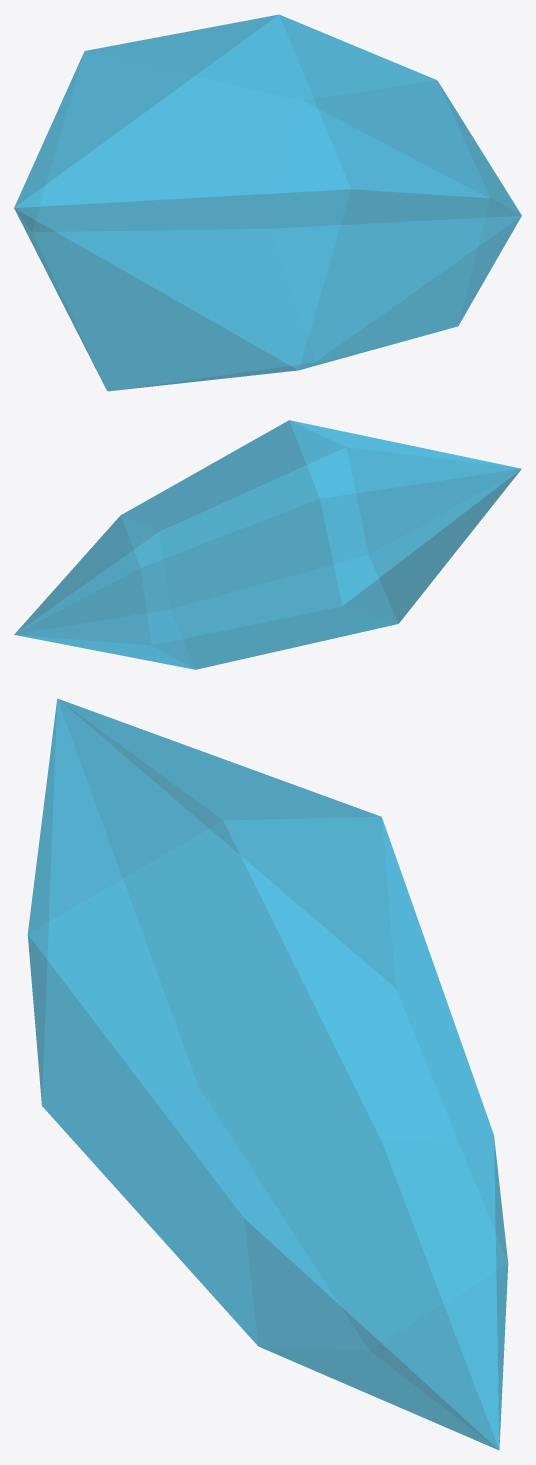
File: SM_Rewards_GemB.fbx
3 views of the same model, one above another, from view 1: azimuth 30°, elevation 25°; view 2: azimuth 150°, elevation 25°; view 3: azimuth 270°, elevation 25° (orthographic). The views are drawn at different scales.
Visible parts, largest first — view 1: SM_Rewards_GemB; view 2: SM_Rewards_GemB; view 3: SM_Rewards_GemB.
Part boxes in pixels (x1,y1,x2,y2): SM_Rewards_GemB: (14, 14, 521, 391); SM_Rewards_GemB: (14, 420, 521, 669); SM_Rewards_GemB: (27, 698, 508, 1450).
Size of the model in its own units: 21.6 by 12.31 by 11.31.
